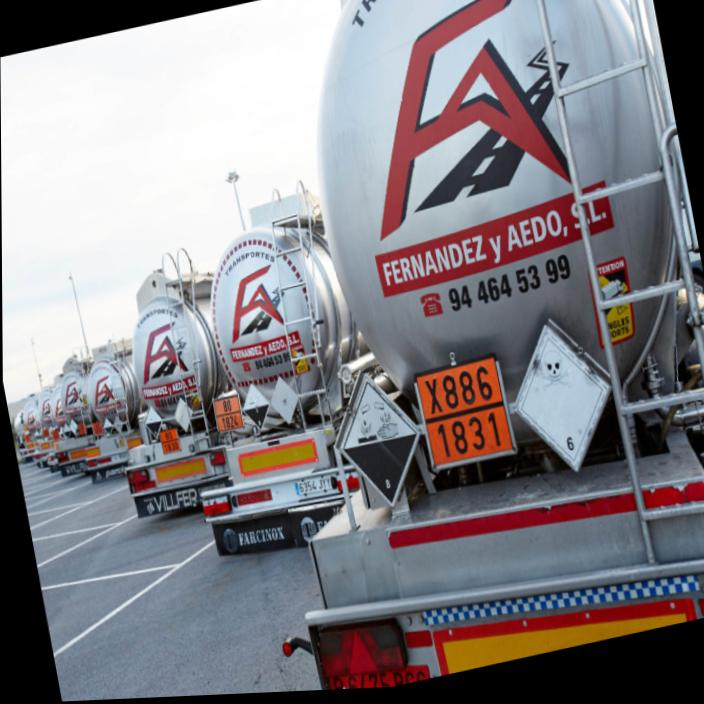elevator buttons: (336, 373, 419, 507), (243, 384, 268, 429), (145, 407, 162, 439)
